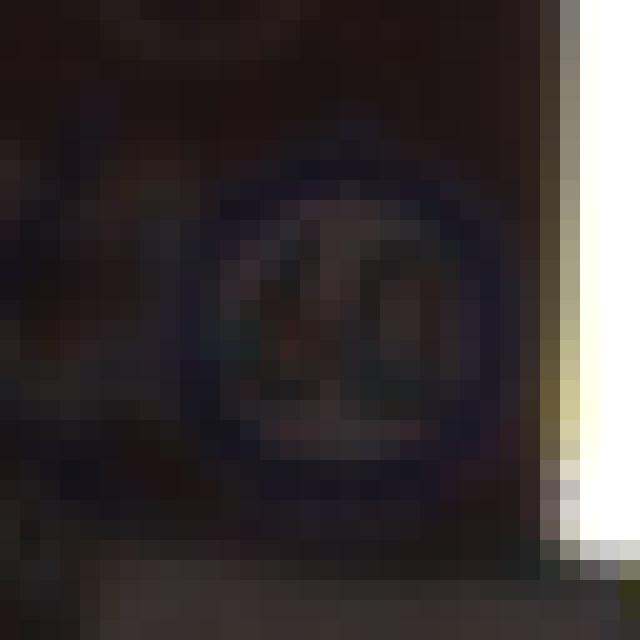SPEED-LIMIT-60: (174, 142, 535, 497)
